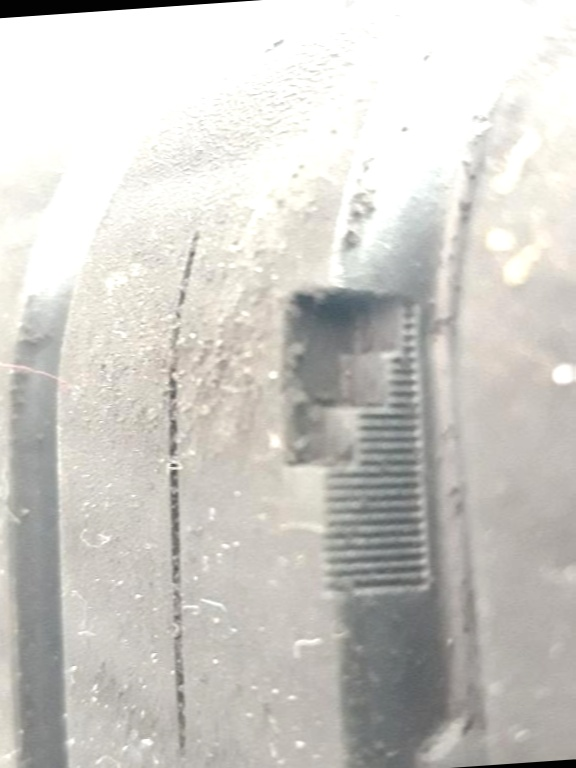temoin:75: (242, 256, 467, 552)
